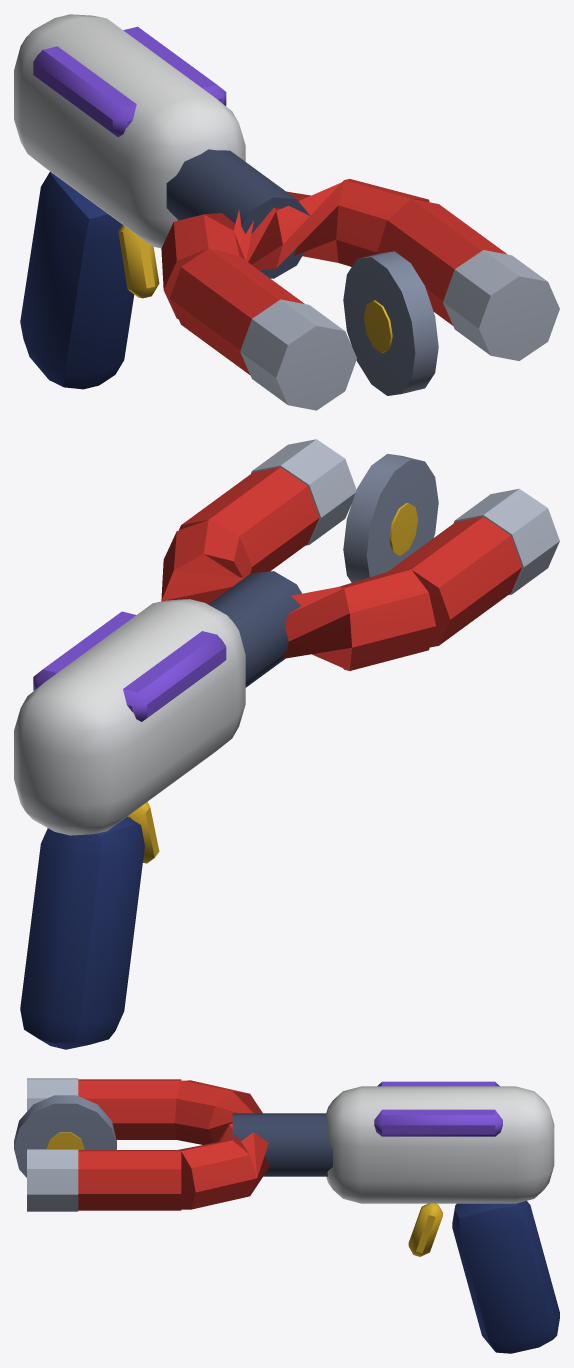
Rendered from w_a_magnet.glb.
The picture shows the model from 3 angles, top to bottom: view 1: azimuth 30°, elevation 25°; view 2: azimuth 150°, elevation 25°; view 3: azimuth 270°, elevation 25°; orthographic projection. The views are drawn at different scales.
Parts seen in each view (by area): view 1: body; view 2: body; view 3: body.
Part boxes in pixels (bbox=[...]): body: bbox=[14, 14, 559, 410]; body: bbox=[14, 439, 559, 1049]; body: bbox=[14, 1078, 559, 1353].
Bounding box in the file's own units: 0.2912 × 0.3531 × 0.6789.
